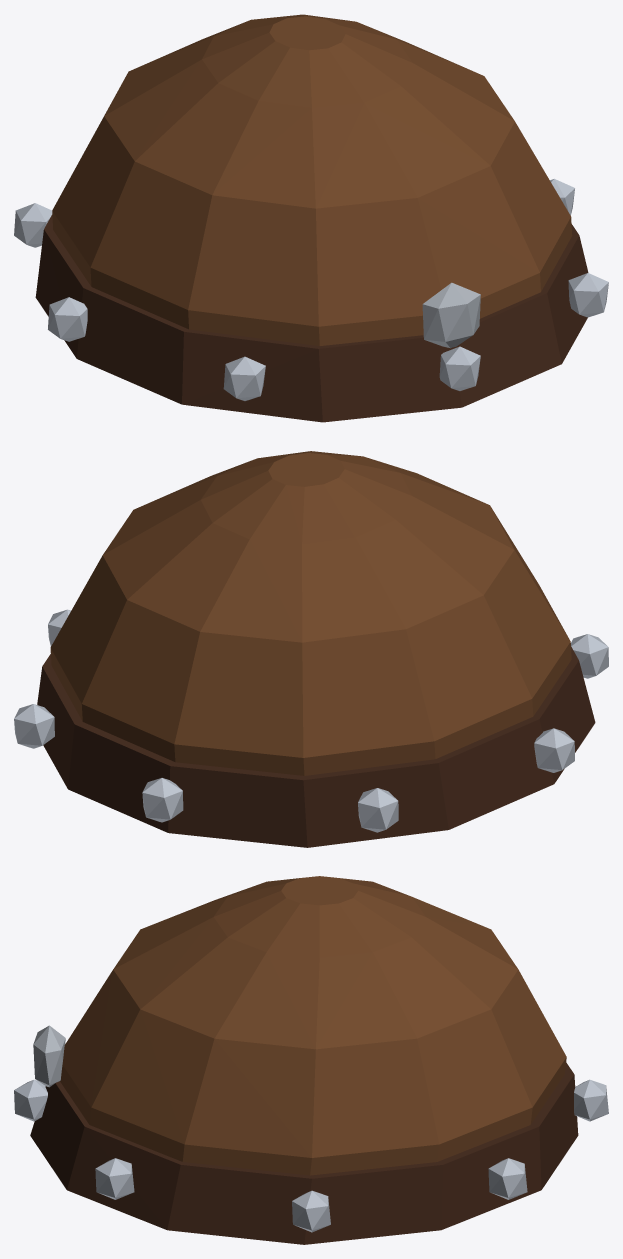
File: gear_studded_cap.glb
3 views of the same model, one above another, from view 1: azimuth 30°, elevation 25°; view 2: azimuth 150°, elevation 25°; view 3: azimuth 270°, elevation 25° (orthographic). The views are drawn at different scales.
Visible parts, largest first — view 1: gear_studded_cap; view 2: gear_studded_cap; view 3: gear_studded_cap.
Part boxes in pixels (left/top/right/bottom): gear_studded_cap: left=14, top=14, right=608, bottom=422; gear_studded_cap: left=14, top=451, right=608, bottom=847; gear_studded_cap: left=14, top=876, right=608, bottom=1244.
Size of the model in its own units: 0.2923 by 0.14 by 0.3083.
